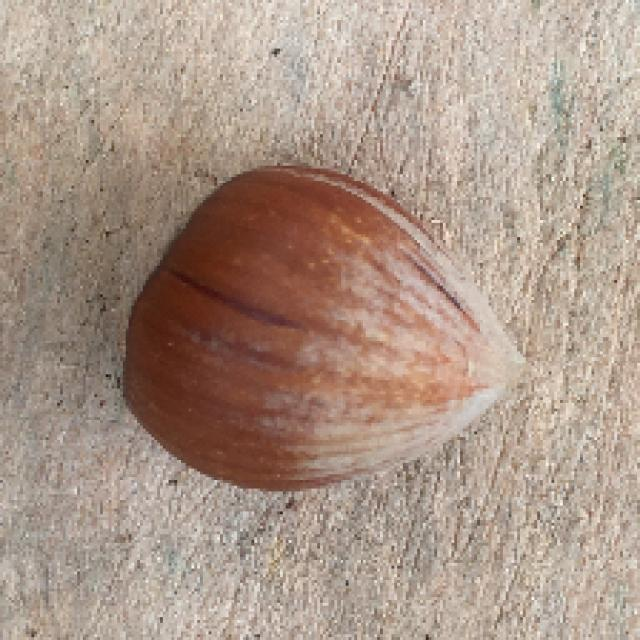qualityHazelnut: (110, 158, 522, 492)
